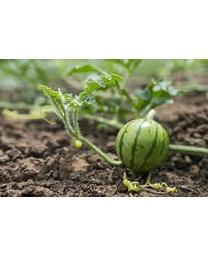watermelon: (116, 119, 170, 173)
